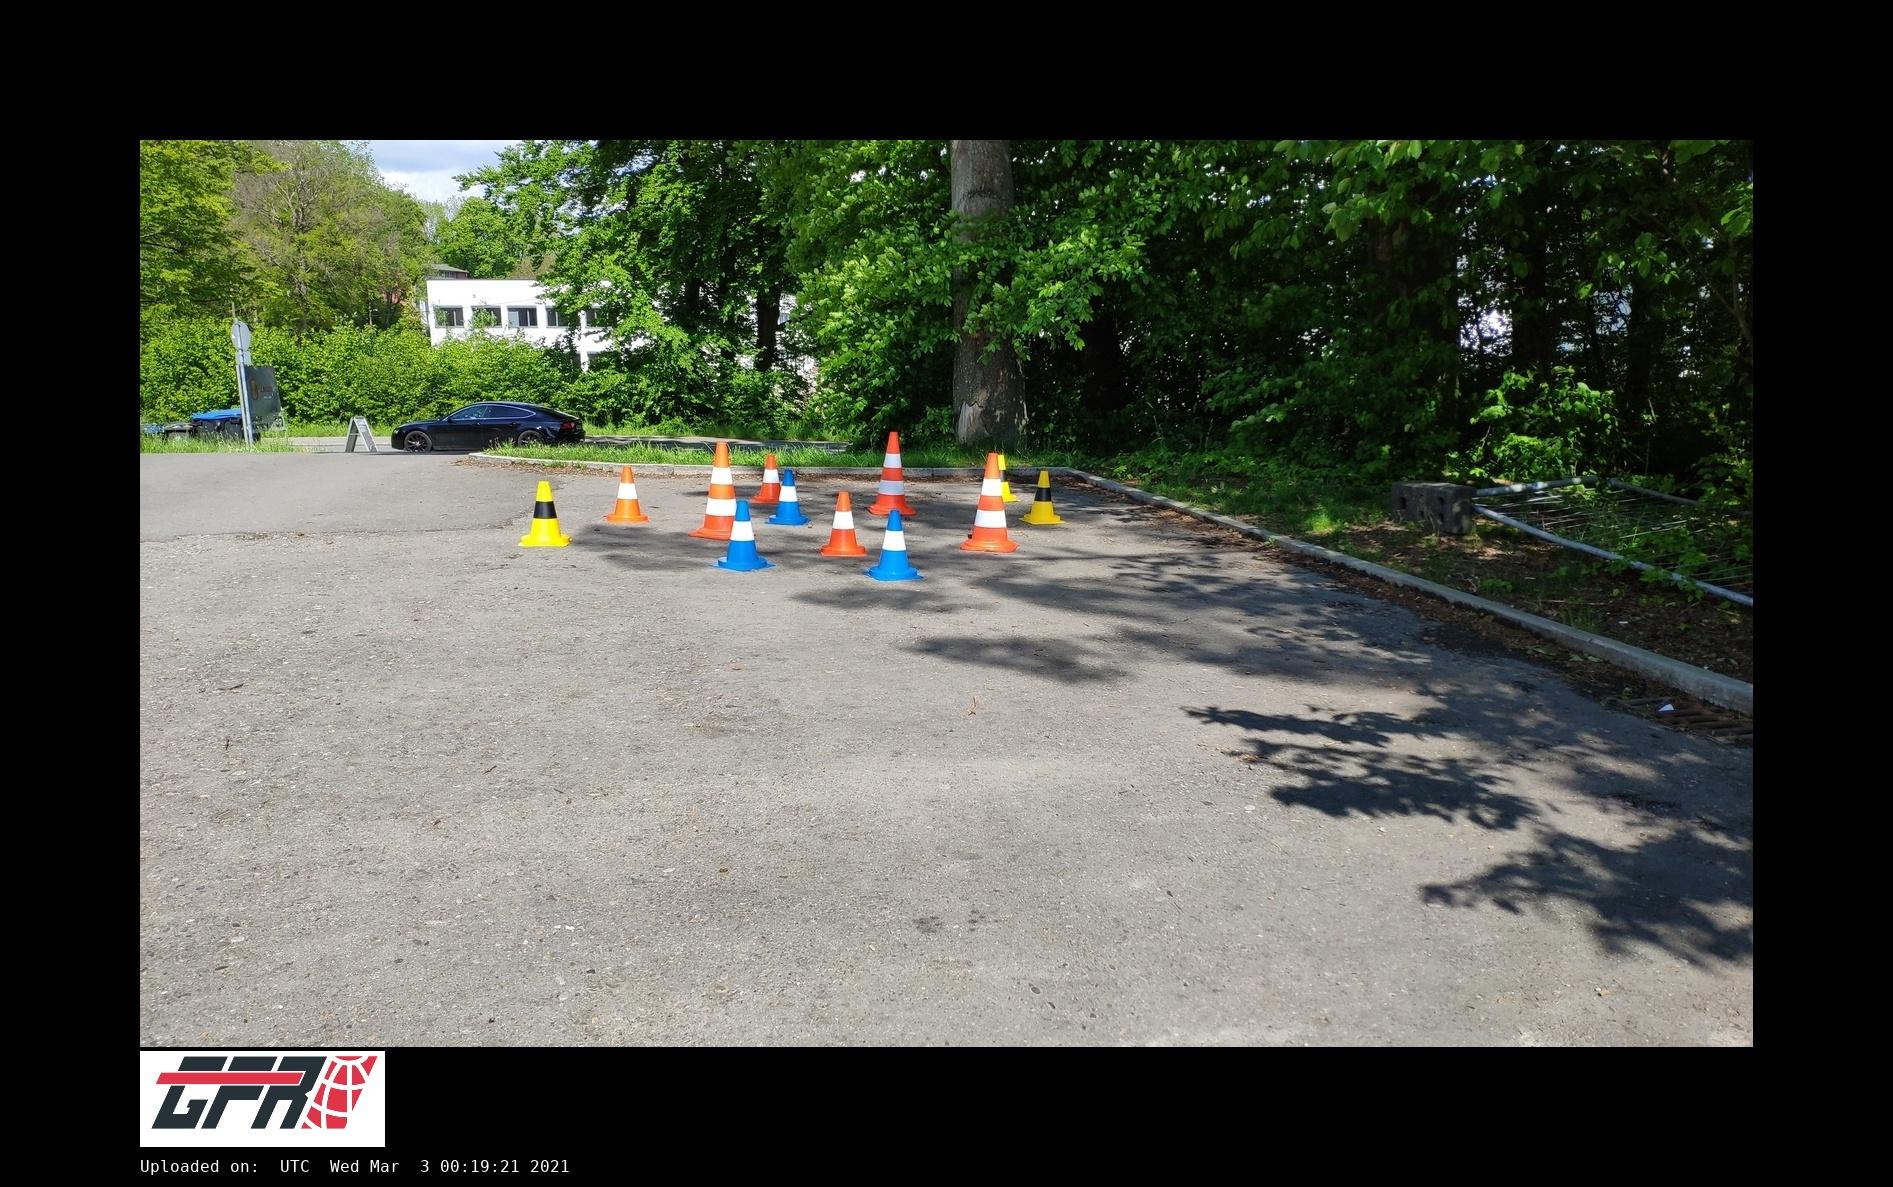blue_cone: (708, 499, 776, 573), (864, 510, 924, 582), (764, 470, 810, 525)
large_orange_cone: (960, 453, 1017, 552), (687, 442, 736, 540), (867, 432, 916, 515)
orange_cone: (819, 491, 867, 556), (606, 466, 648, 522), (751, 455, 779, 503)
yellow_cone: (518, 481, 572, 546), (1018, 471, 1066, 525), (998, 453, 1021, 503)
